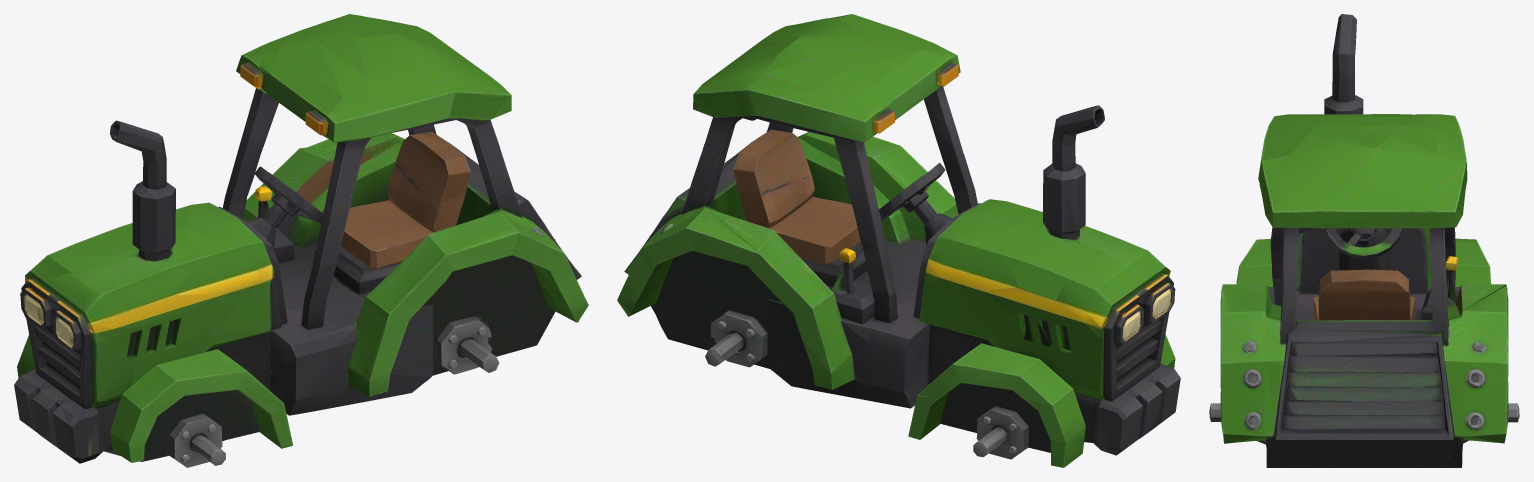
Rendered from tractor.glb.
3 views of the same model, side by side, from view 1: azimuth 30°, elevation 25°; view 2: azimuth 150°, elevation 25°; view 3: azimuth 270°, elevation 25° (orthographic). The views are drawn at different scales.
Size of the model in its own units: 1.9 by 1.2 by 1.06.
1 material, 1 textured.
